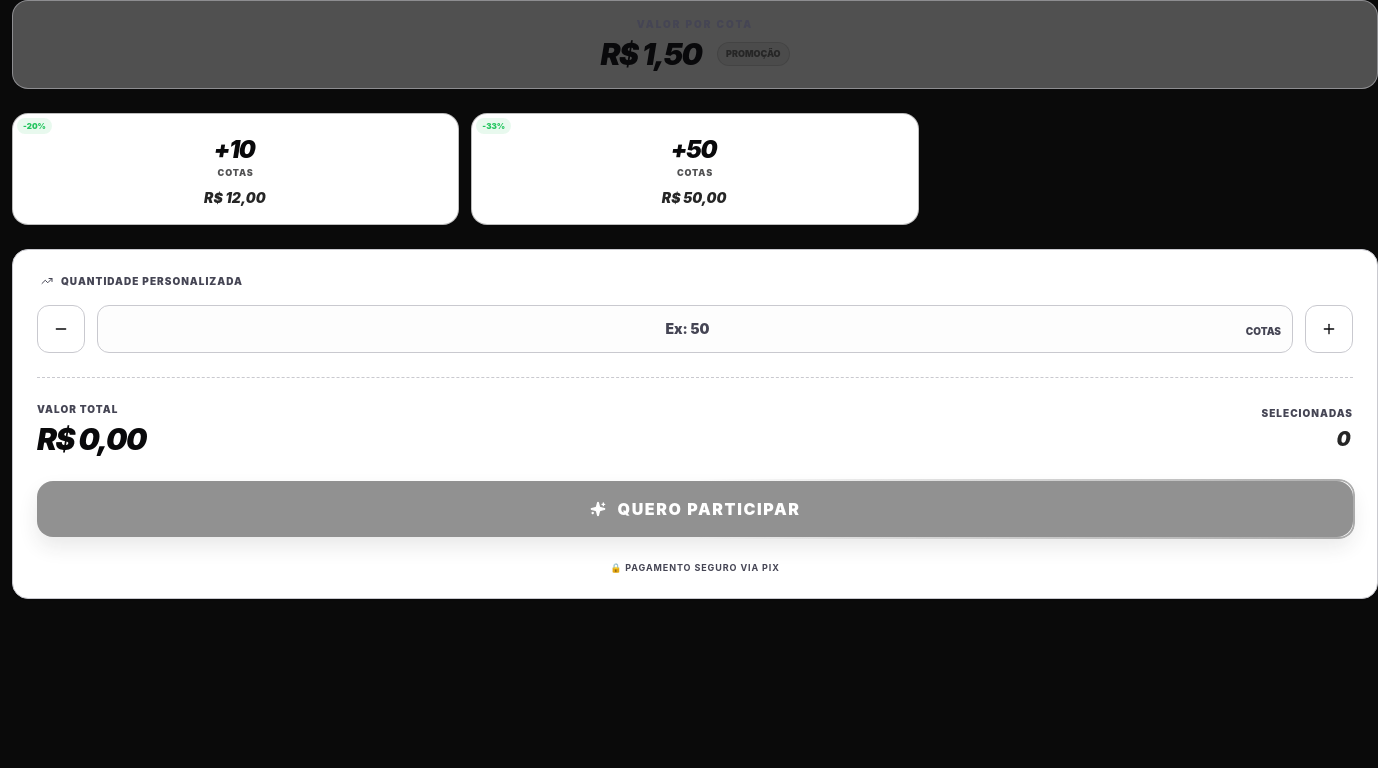
it: CampaignPricing Component › calculates total correctly without bundle
The width and height of the screenshot is (1378, 768).
Step 1. Type "5" into the number field with placeholder "Ex: 50" → (695, 328), box [97,304,1293,352]
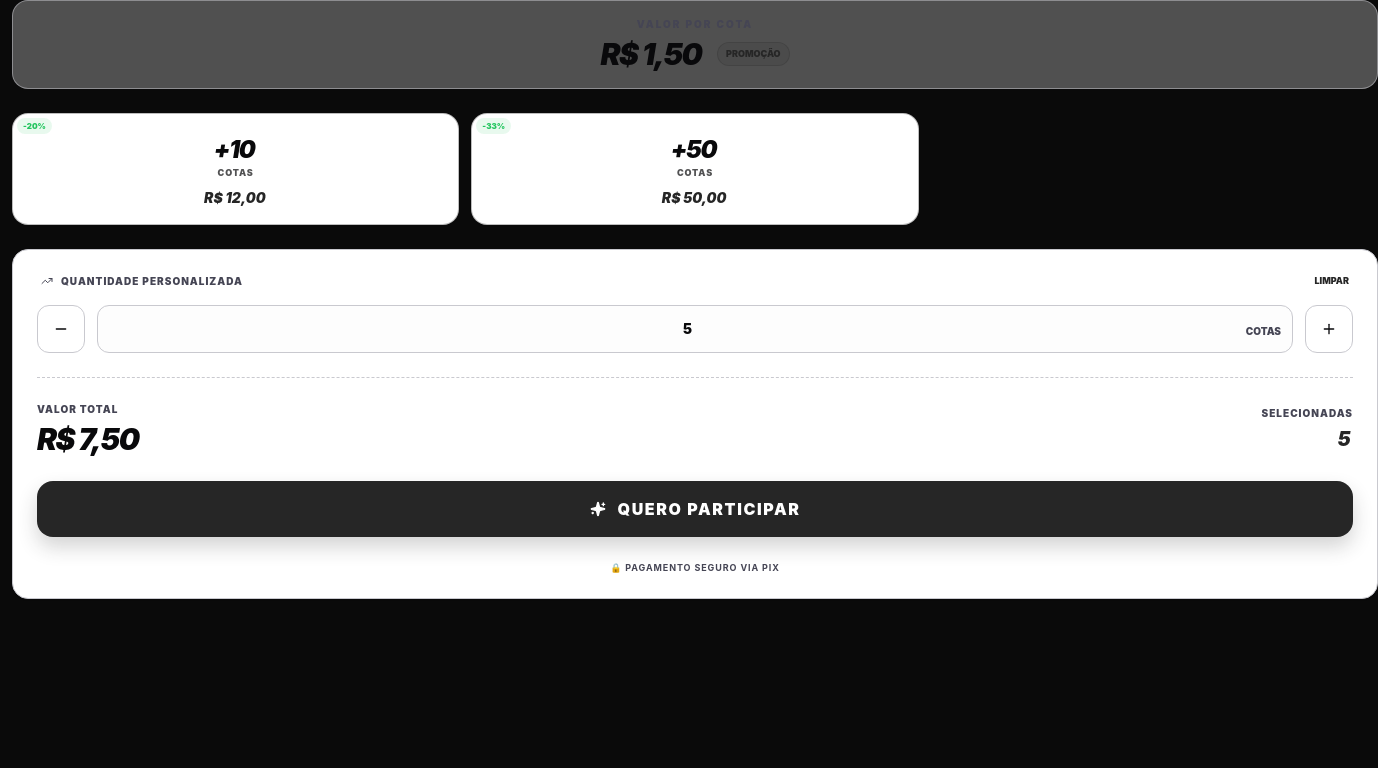
Now the text "R$ 7,50" is shown, box [37,420,142,456]
